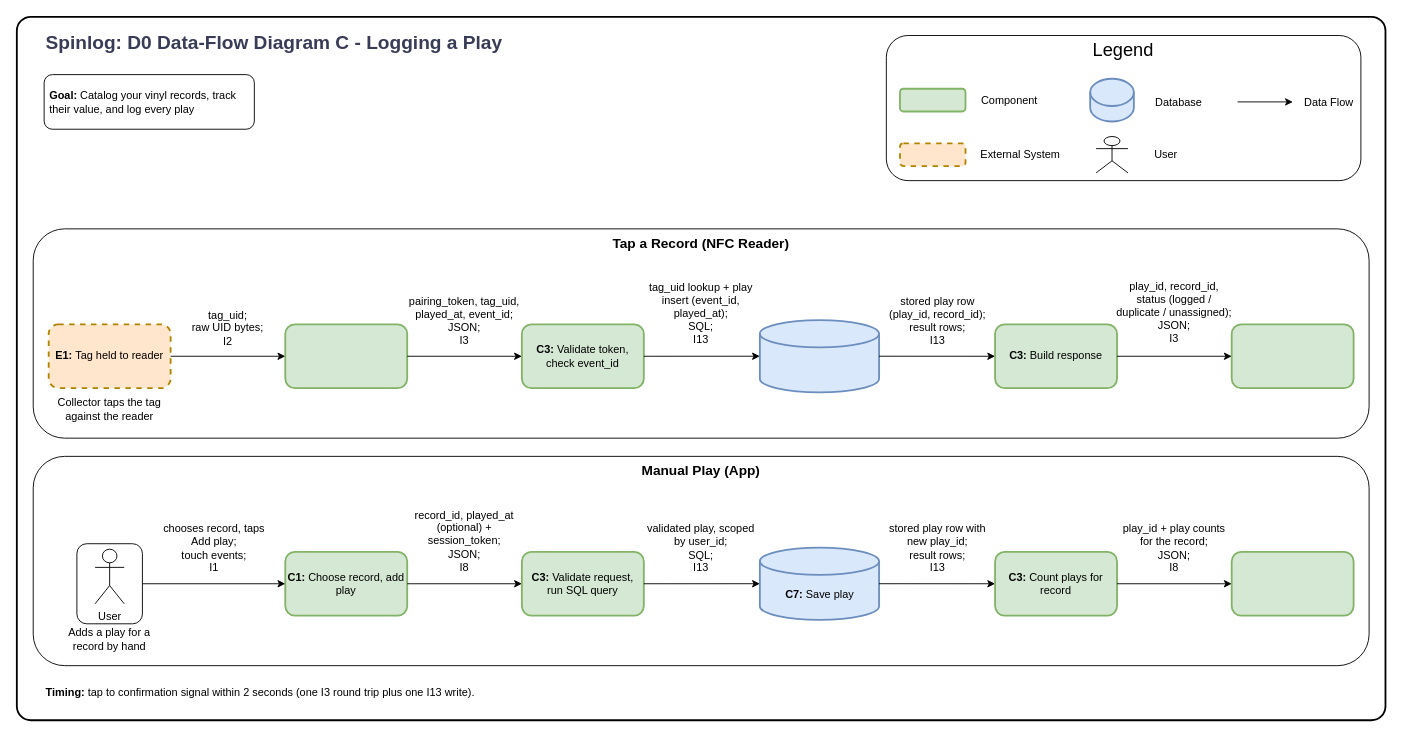
The diagram is 1401 pixels wide and 736 high, and some of its shapes have lost their labels. Here are the shapes that lost their labels. From the top down, the centre of each, then its label:
point 346,356: C2: Read tag UID, build play event
point 819,356: C7: Look up tag, save play
point 1292,356: C2: Show result to collector
point 1292,583: C1: Display updated play count
